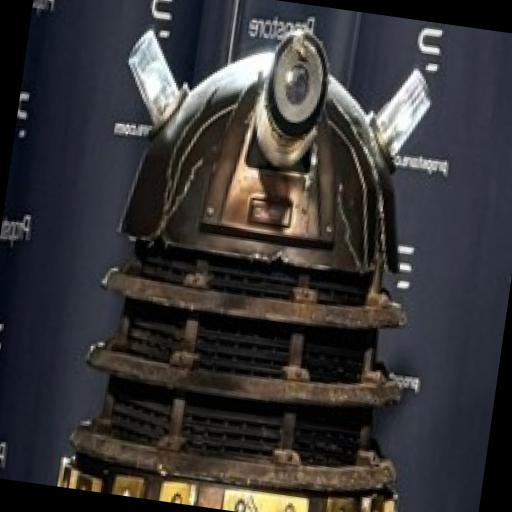dalek: (57, 4, 464, 512)
